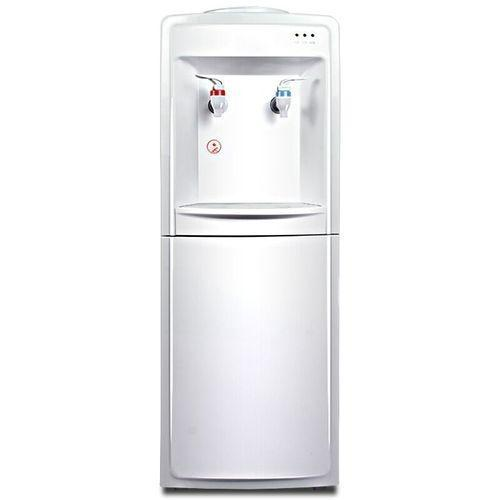Dispenser: (158, 6, 339, 489)
